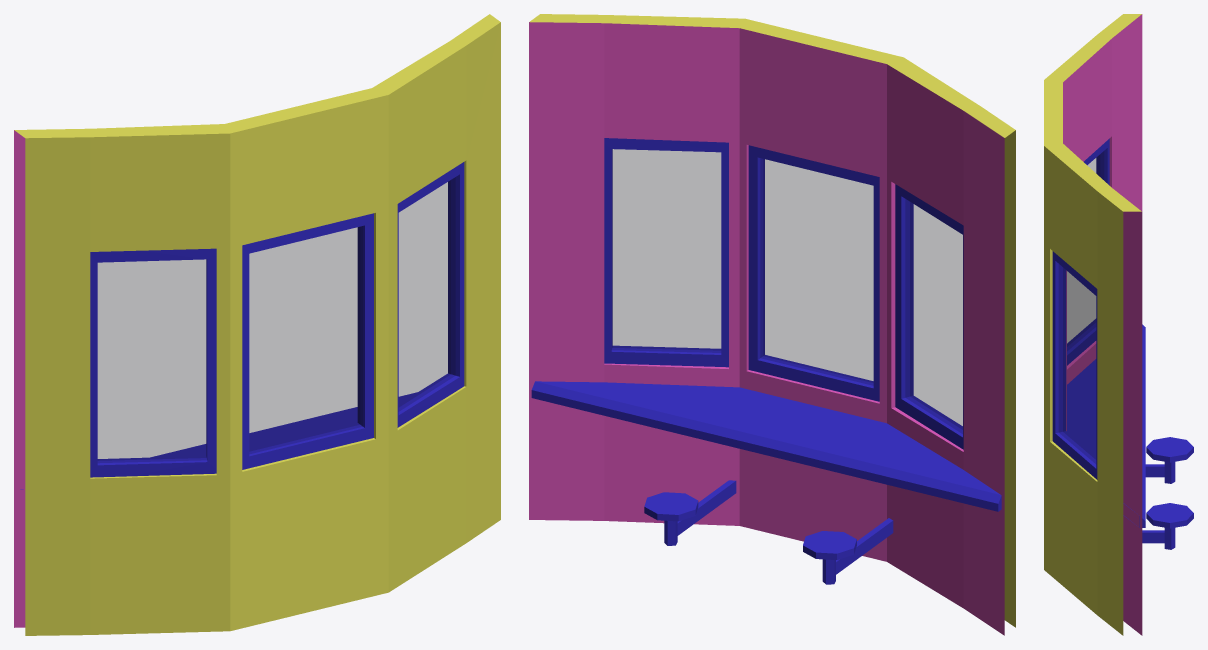
File: SM_wall9.fbx
The picture shows the model from 3 angles, left to right: view 1: azimuth 30°, elevation 25°; view 2: azimuth 150°, elevation 25°; view 3: azimuth 270°, elevation 25°; orthographic projection. The views are drawn at different scales.
Visible parts, largest first — view 1: wall9; view 2: wall9; view 3: wall9.
Boxes of the visible parts, box(x1,y1,x2,y2) form: wall9: box(14, 14, 500, 635); wall9: box(529, 14, 1015, 635); wall9: box(1044, 14, 1193, 635).
Size of the model in its own units: 300 by 300 by 96.
